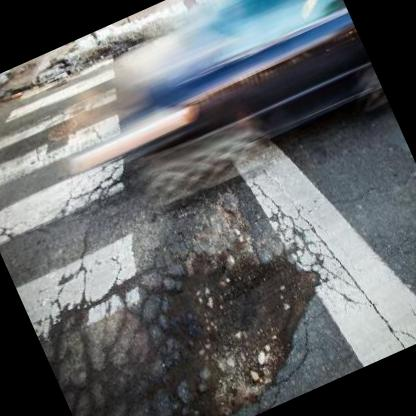pothole: (126, 215, 353, 416)
